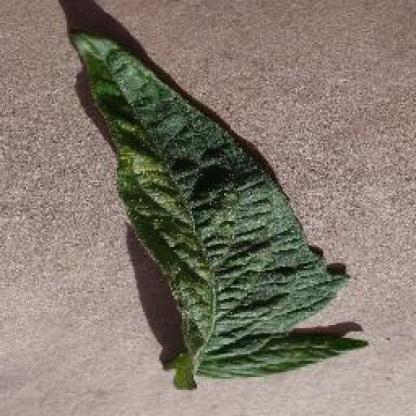Tomato_Spider_Mites: (60, 29, 350, 329)
